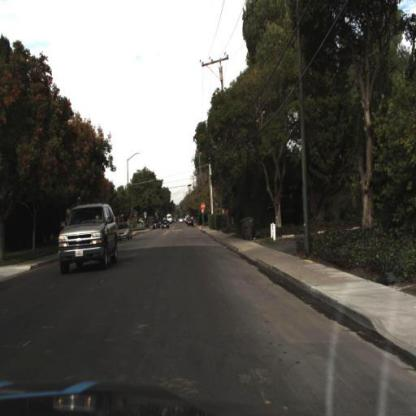car: (54, 202, 118, 277), (117, 220, 134, 242), (150, 216, 160, 232), (186, 217, 196, 230)
